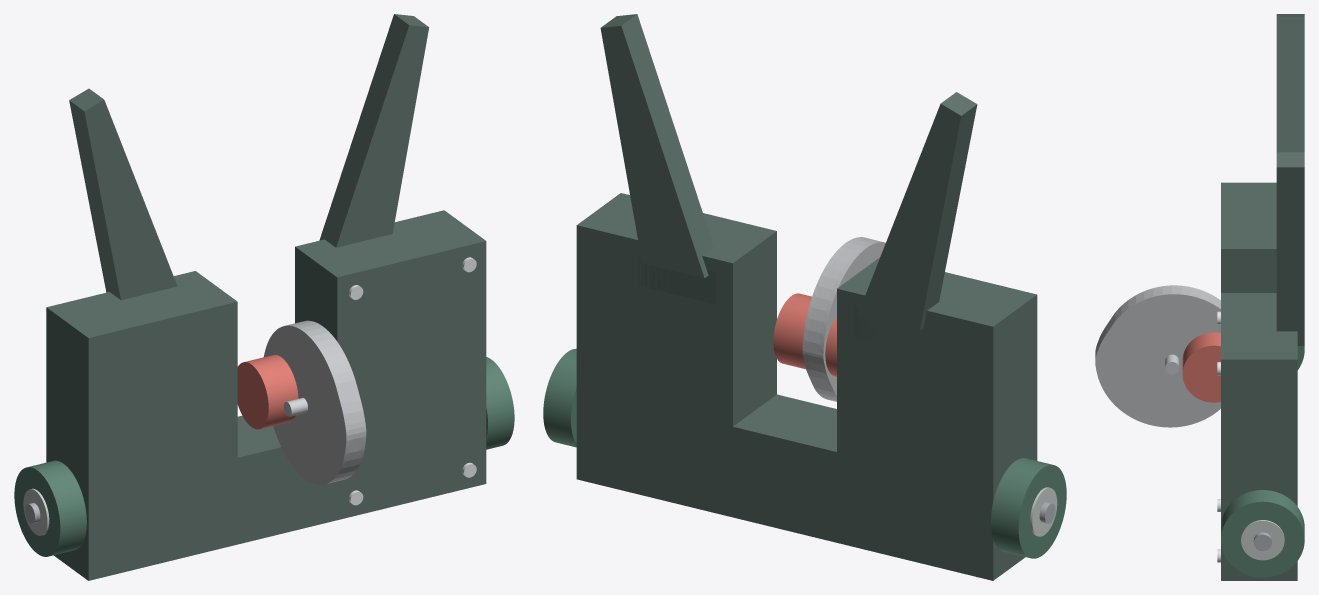
Rendered from verty_little_secret.glb.
The picture shows the model from 3 angles, left to right: view 1: azimuth 30°, elevation 25°; view 2: azimuth 150°, elevation 25°; view 3: azimuth 270°, elevation 25°; orthographic projection. The views are drawn at different scales.
Parts seen in each view (by area): view 1: pod_r, pod_l, fork_l, fork_r, weapon, bridge, wheel_r0, motor, wheel_l0, dt_hub_wheel_r0; view 2: pod_r, pod_l, fork_l, fork_r, bridge, wheel_r0, weapon, wheel_l0, motor, dt_mount_fork_l, dt_hub_wheel_r0; view 3: pod_l, weapon, pod_r, fork_l, wheel_l0, fork_r, motor, dt_hub_wheel_l0, dt_nut_wheel_l0.
Boxes of the visible parts, box(x1,y1,x2,y2) form: pod_r: box(46, 271, 237, 580); pod_l: box(295, 210, 486, 520); fork_l: box(319, 14, 428, 247); fork_r: box(69, 88, 177, 300); weapon: box(264, 320, 366, 484); bridge: box(237, 415, 337, 544); wheel_r0: box(14, 460, 86, 556); motor: box(237, 354, 298, 429); wheel_l0: box(486, 357, 514, 449); dt_hub_wheel_r0: box(23, 488, 49, 535); pod_r: box(837, 257, 1037, 580); pod_l: box(576, 193, 776, 517); fork_l: box(600, 14, 713, 278); fork_r: box(857, 92, 977, 330); bridge: box(733, 394, 837, 542); wheel_r0: box(991, 458, 1066, 558); weapon: box(802, 237, 885, 401); wheel_l0: box(543, 348, 576, 447); motor: box(773, 293, 836, 376); dt_mount_fork_l: box(639, 253, 715, 304); dt_hub_wheel_r0: box(1030, 487, 1057, 536); pod_l: box(1221, 293, 1297, 580); weapon: box(1095, 285, 1220, 427); pod_r: box(1221, 182, 1276, 292); fork_l: box(1276, 152, 1304, 345); wheel_l0: box(1221, 490, 1304, 577); fork_r: box(1276, 14, 1304, 152); motor: box(1182, 332, 1220, 402); dt_hub_wheel_l0: box(1241, 520, 1284, 560); dt_nut_wheel_l0: box(1253, 532, 1271, 551).
Size of the model in its own units: 141 by 129 by 60.01.
